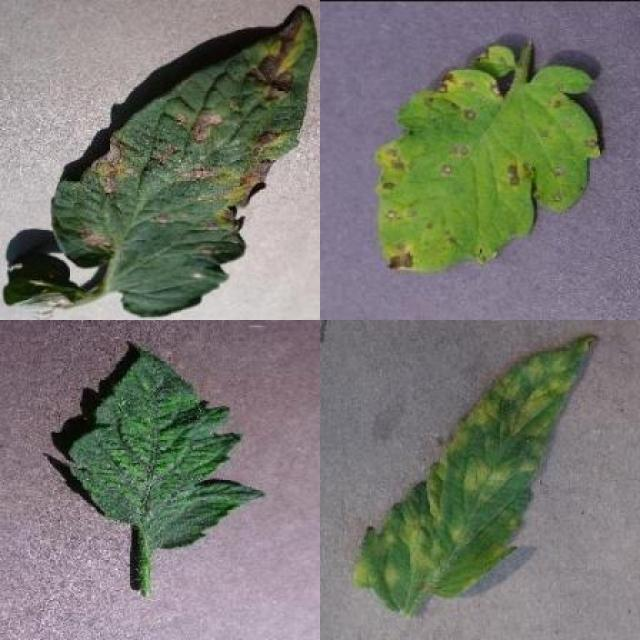Early Blight: (47, 5, 316, 315)
Leaf Mold: (353, 334, 598, 616)
Mosaic Virus: (68, 350, 265, 550)
Septoria: (372, 42, 602, 272)
